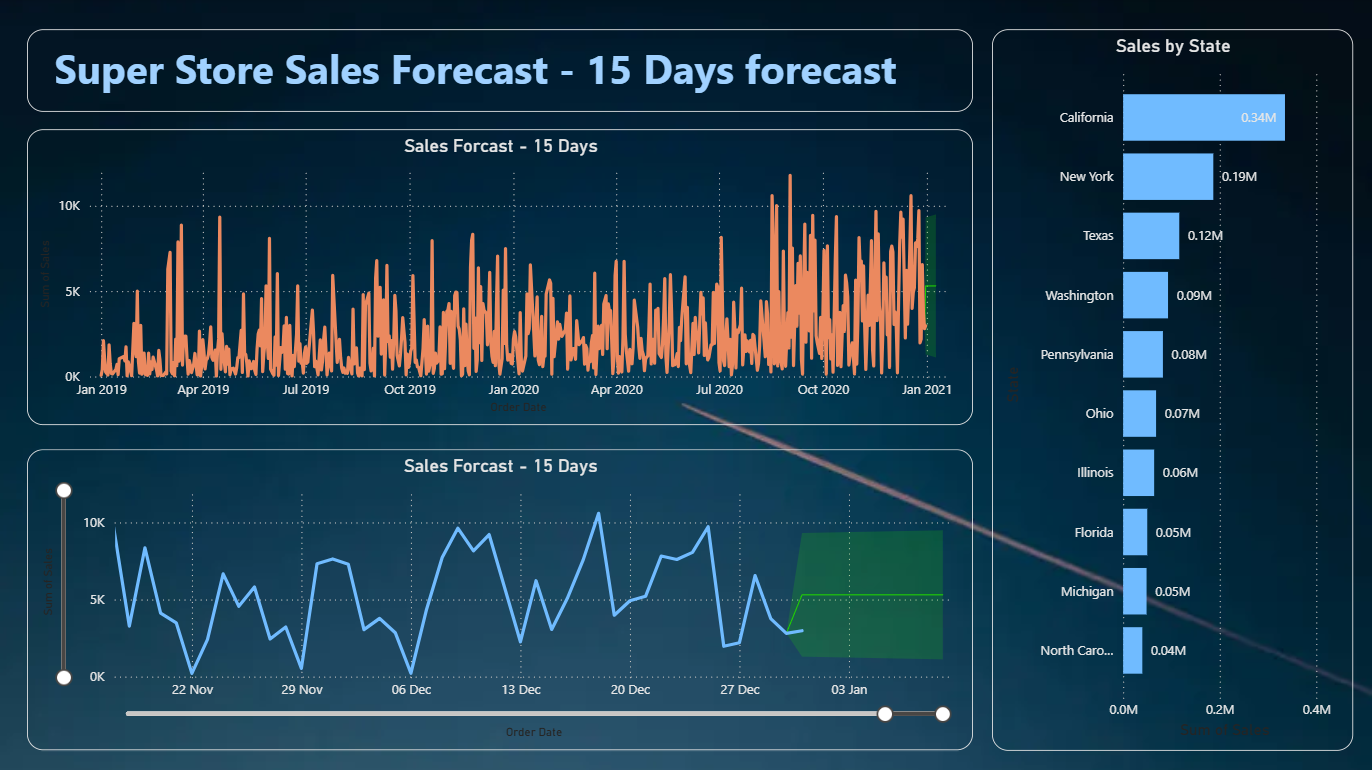

What the dashboard file says about the page in this screenshot:
{"tool":"powerbi","page":{"name":"Page 2","canvas":[1280,720],"ordinal":1},"visuals":[{"type":"lineChart","title":"Sales Forcast - 15 Days","fields":{"Y":["Sum(Sheet1.Sales)"],"Category":["Sheet1.Order Date"]},"box":[27.9,122.1,880.2,275.6],"z":0},{"type":"lineChart","title":"Sales Forcast - 15 Days","fields":{"Y":["Sum(Sheet1.Sales)"],"Category":["Sheet1.Order Date"]},"box":[27.9,419.9,879.9,280.3],"z":1000},{"type":"textbox","box":[27.9,29.1,880.2,76.7],"z":2000},{"type":"clusteredBarChart","title":"Sales by State","fields":{"Y":["Sum(Sheet1.Sales)"],"Category":["Sheet1.State"]},"box":[925.6,29.1,336,670.9],"z":3000}]}

Visuals, with their boxes in screenshot pixels (x1, y1, x2, y2), scaled from the page's 1280x720 canvas onto the 1372x770 screenshot:
"Sales Forcast - 15 Days" lineChart: rect(30, 131, 973, 425)
"Sales Forcast - 15 Days" lineChart: rect(30, 449, 973, 749)
textbox: rect(30, 31, 973, 113)
"Sales by State" clusteredBarChart: rect(992, 31, 1352, 749)
